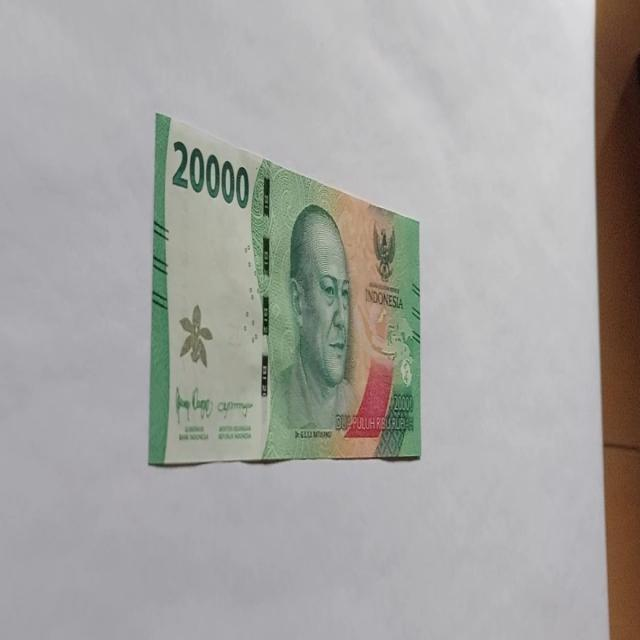dua puluh ribu rupiah: (148, 111, 422, 468)
